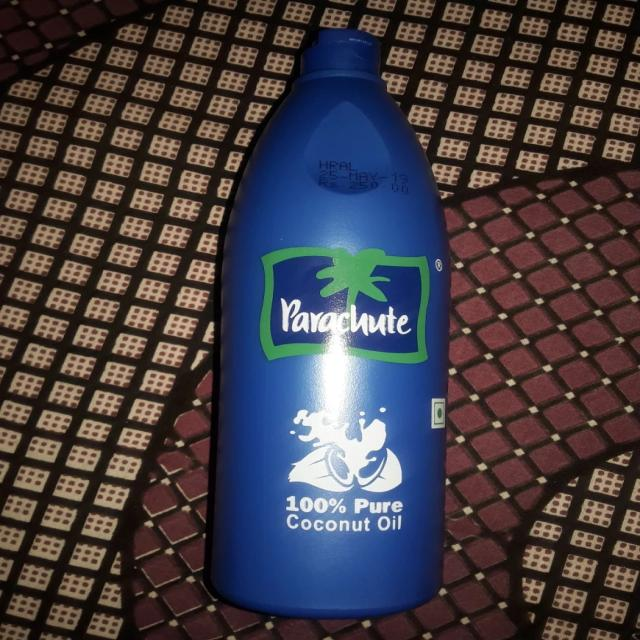parachute_oil: (218, 26, 444, 612)
